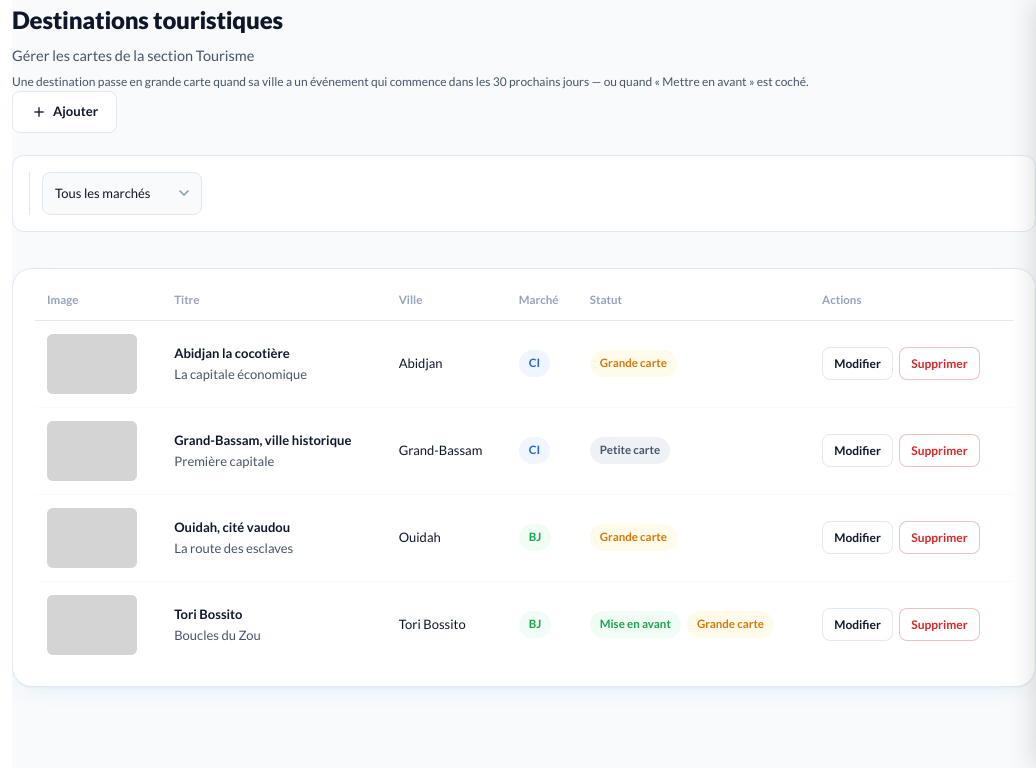
it: AdminDestinationsPage — modification › préremplit le formulaire avec la destination à modifier
Click the button "Modifier" in the row of "Ouidah, cité vaudou": (858, 538) x1=822 y1=522 x2=893 y2=554
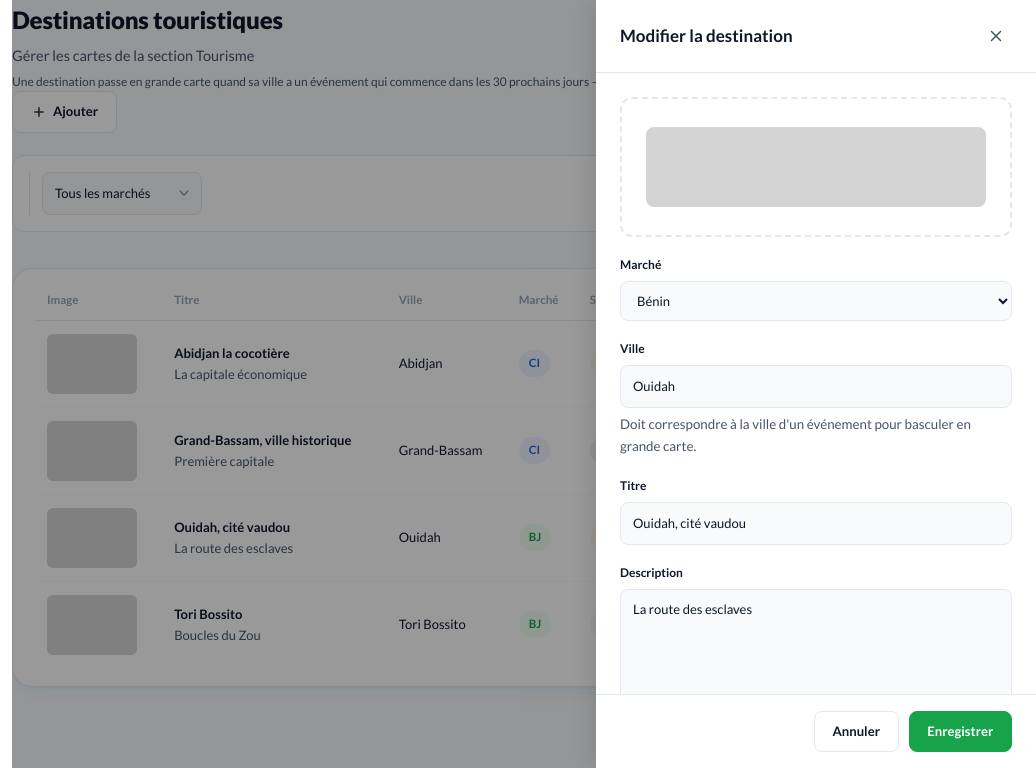
Expected: the field with placeholder "Ouidah, Abidjan..." holds "Ouidah", x1=620 y1=365 x2=1012 y2=408
Expected: the field with placeholder "Nom de la destination" holds "Ouidah, cité vaudou", x1=620 y1=502 x2=1012 y2=545
Expected: the text box with placeholder "Description de la destination" holds "La route des esclaves", x1=620 y1=589 x2=1012 y2=694
